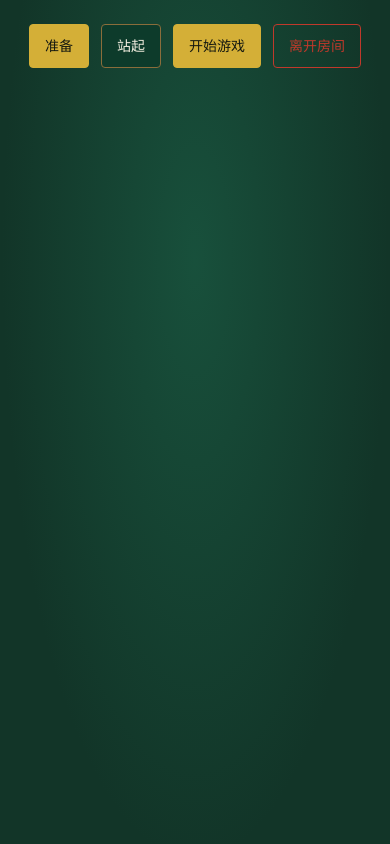
Test case: in-flight debounce › start click disables the button until the next room:state arrives
Click the button with test id "btn-room-start": [217, 46] box [173, 24, 261, 68]
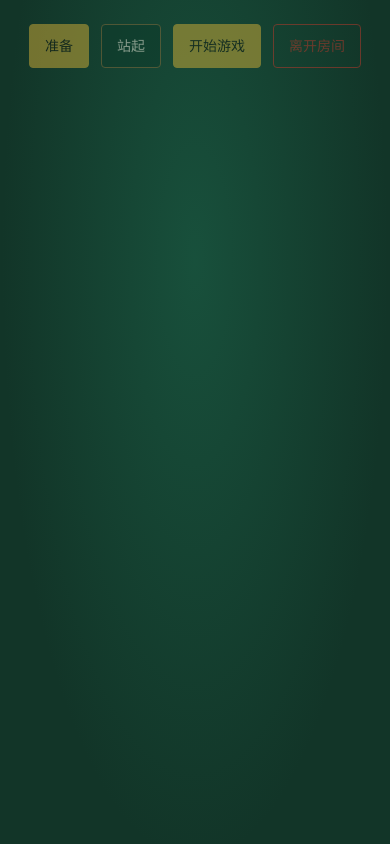
expect the button with test id "btn-room-start" is disabled: met
// Further clicks are swallowed while in flight.
Click the button with test id "btn-room-start": [217, 46] box [173, 24, 261, 68]
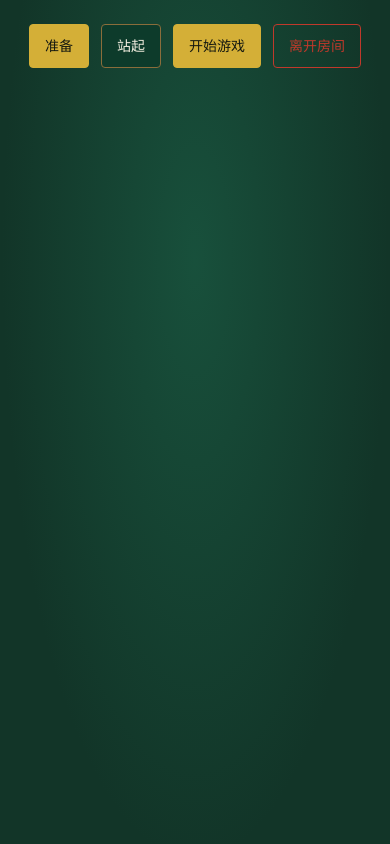
expect the button with test id "btn-room-start" is enabled: met, box [173, 24, 261, 68]
